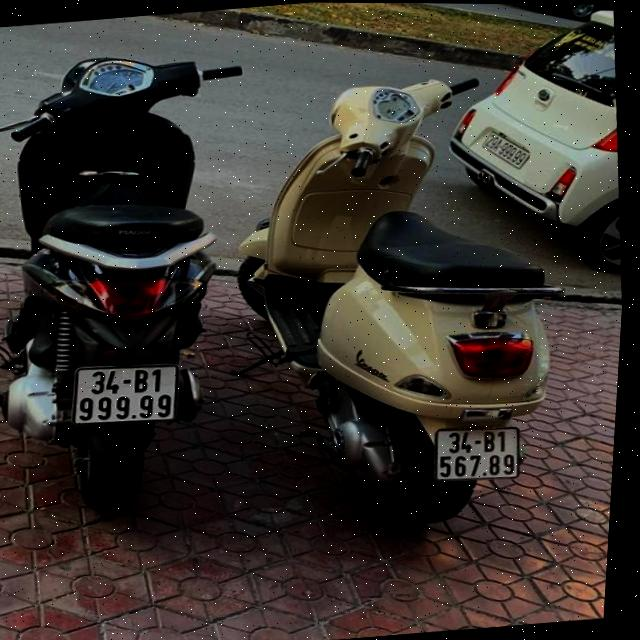car: (423, 6, 637, 287), (498, 4, 614, 29)
motorcycle: (198, 55, 588, 547), (0, 37, 289, 534)
plate: (61, 355, 187, 432), (426, 416, 530, 486), (469, 120, 536, 175)
